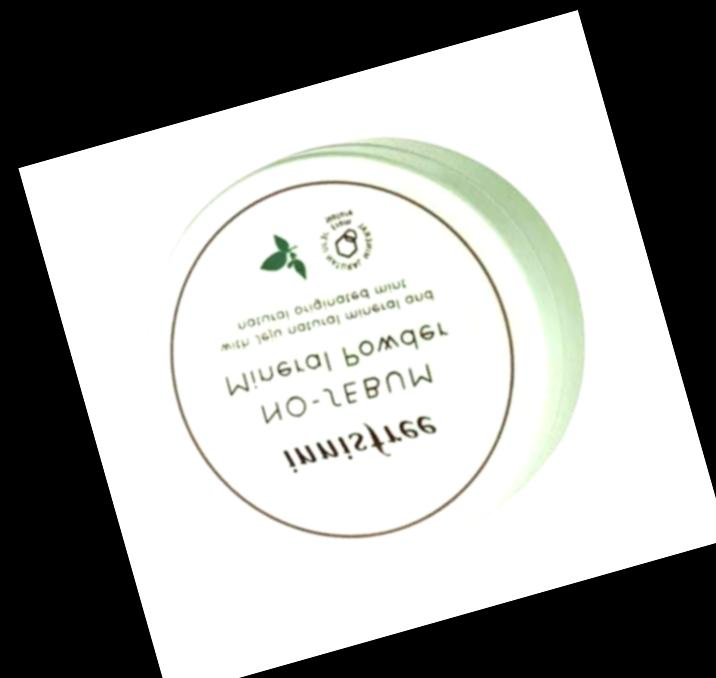cosmetic: (106, 98, 625, 605)
